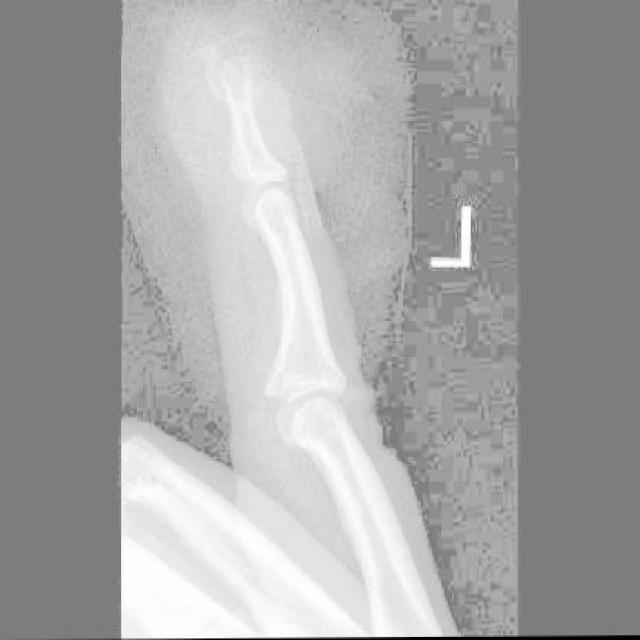Fracture: (195, 34, 263, 108)
